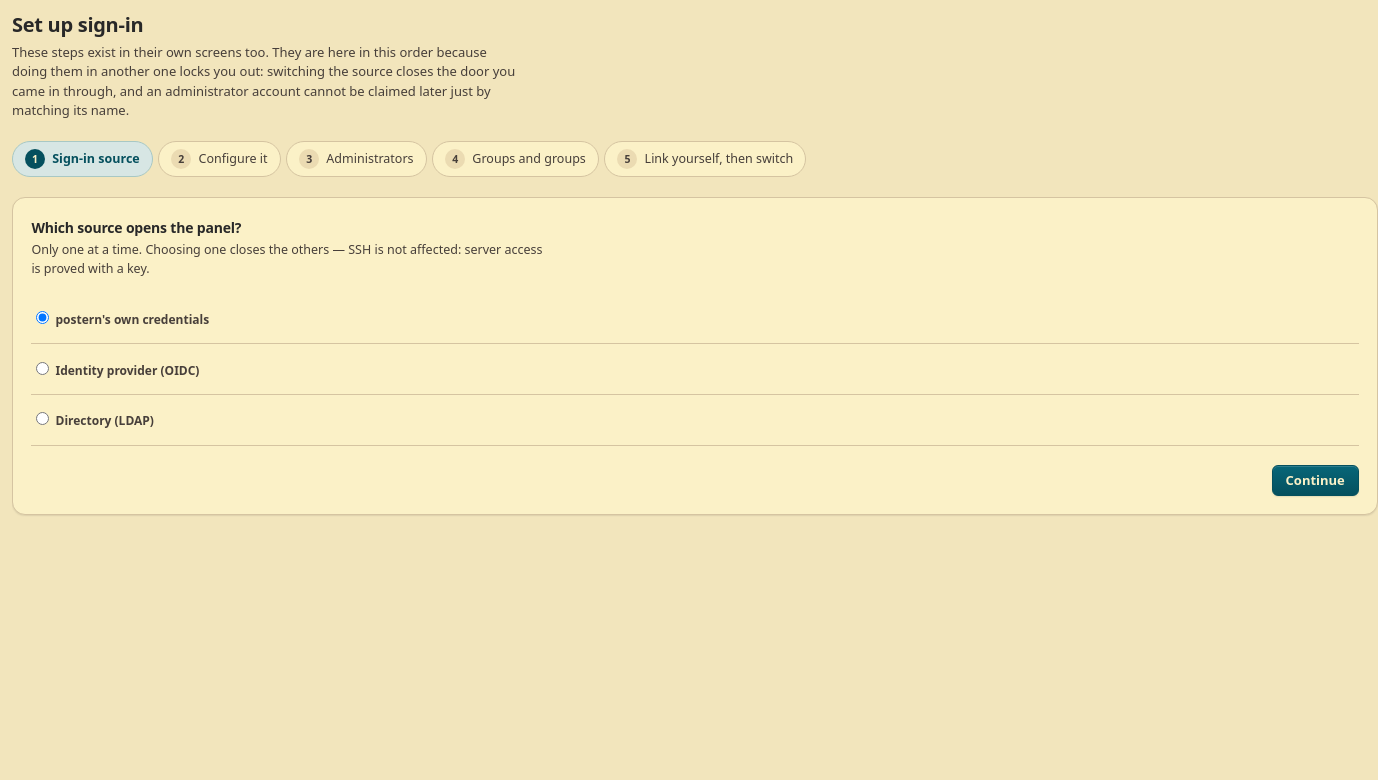
kurulum sihirbazi › oidc icin grup claim'inin nasil ayarlanacagini anlatir
Expected: the heading "Which source opens the panel?" is shown, [31,218,241,237]
Click the radio button labelled "Identity provider (OIDC)": (43, 368) [36,362,49,375]
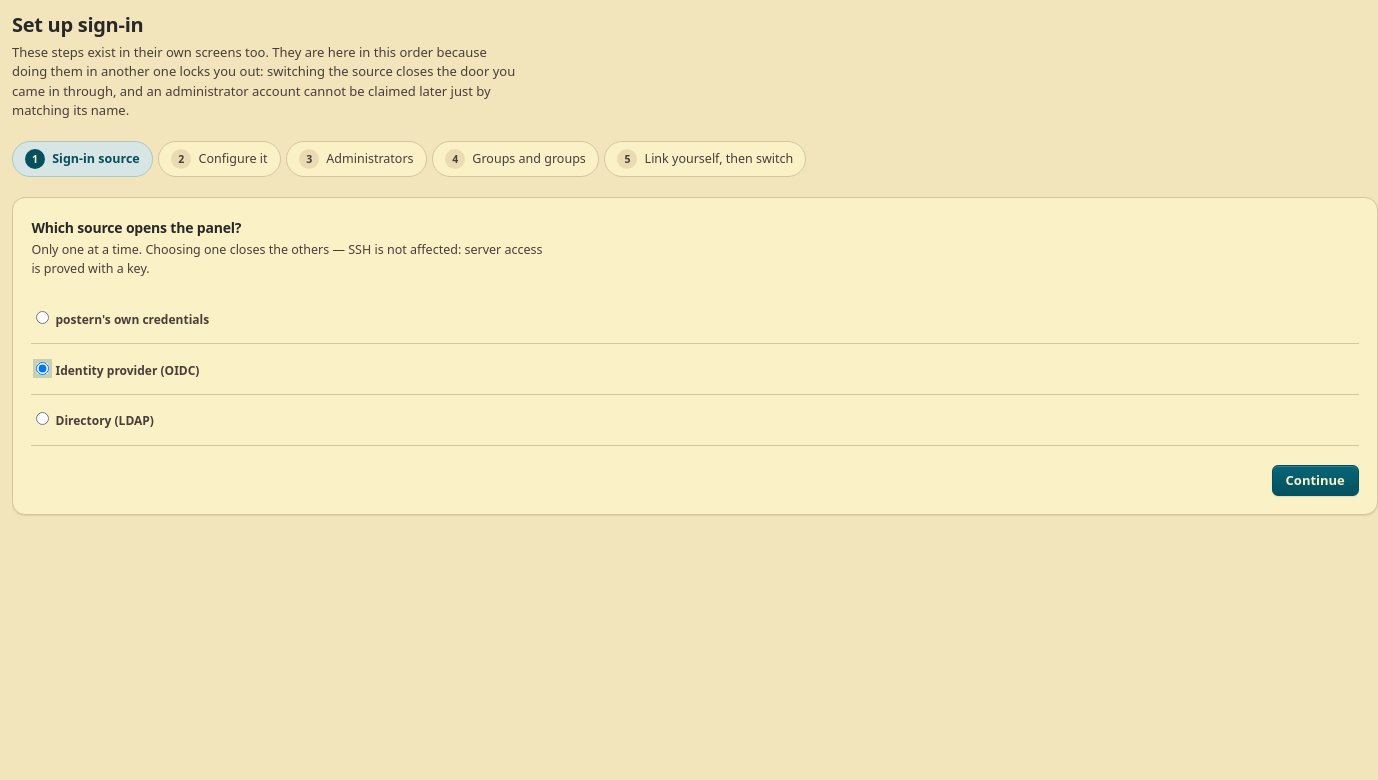
Click the button "2 Configure it": (219, 159) [158,141,281,177]
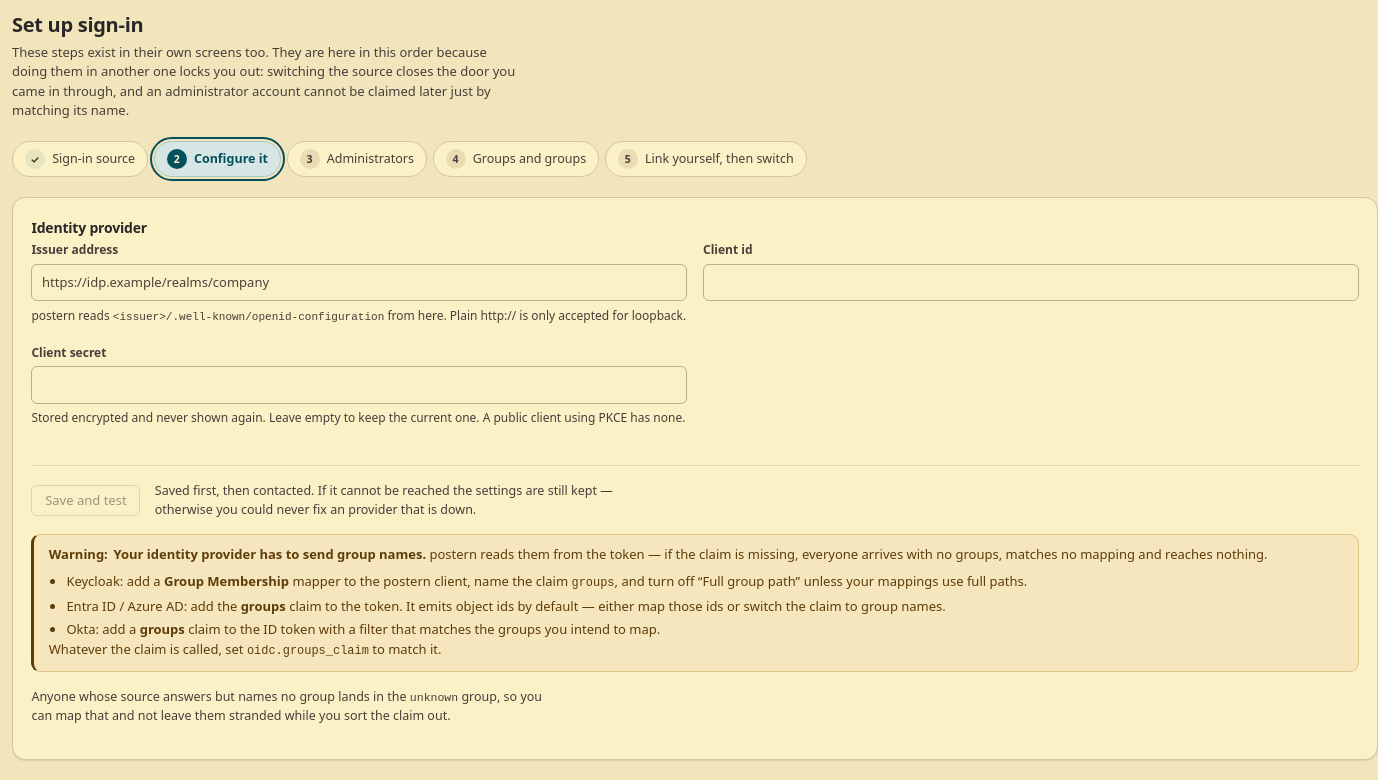
Expected: the text "Your identity provider has to send group names." is shown, [113,545,426,563]
Expected: the text "Group Membership" is shown, [164,572,289,590]
